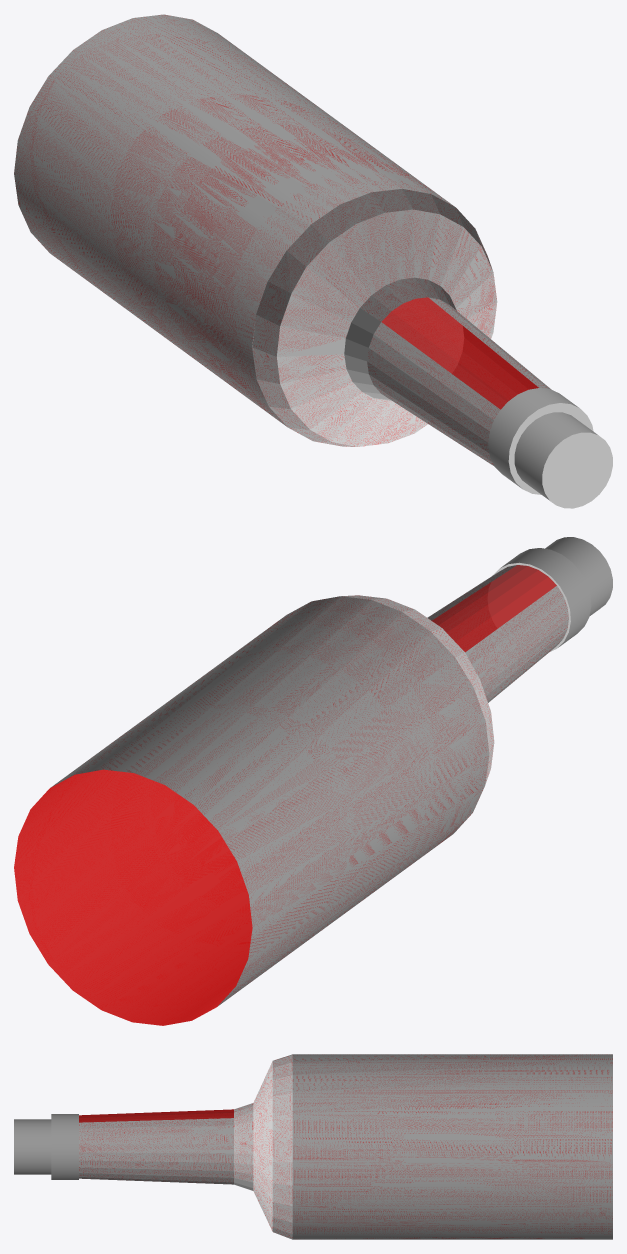
File: model_align.obj
3 renders of one model, top to bottom at view 1: azimuth 30°, elevation 25°; view 2: azimuth 150°, elevation 25°; view 3: azimuth 270°, elevation 25°, orthographic. The views are drawn at different scales.
Parts seen in each view (by area): view 1: mesh1_mesh1-geometry, mesh2_mesh2-geometry; view 2: mesh1_mesh1-geometry, mesh2_mesh2-geometry; view 3: mesh1_mesh1-geometry, mesh2_mesh2-geometry.
Part boxes in pixels (bbox=[...]): mesh1_mesh1-geometry: bbox=[14, 14, 551, 466]; mesh2_mesh2-geometry: bbox=[488, 388, 612, 508]; mesh1_mesh1-geometry: bbox=[14, 565, 568, 1025]; mesh2_mesh2-geometry: bbox=[488, 537, 612, 651]; mesh1_mesh1-geometry: bbox=[79, 1054, 612, 1239]; mesh2_mesh2-geometry: bbox=[14, 1114, 78, 1179].
Size of the model in its own units: 0.063 by 0.063 by 0.2025.
